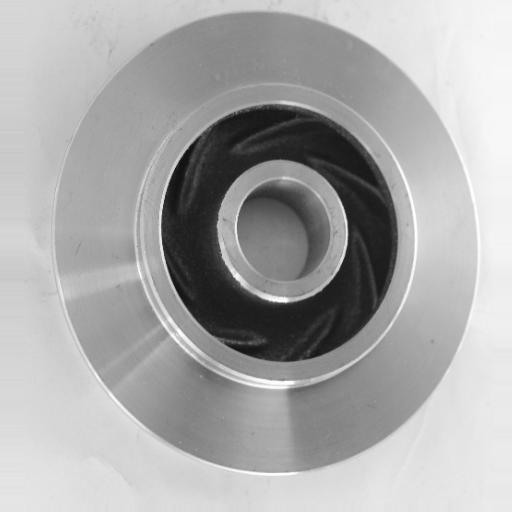polished_casting: (52, 11, 482, 475)
